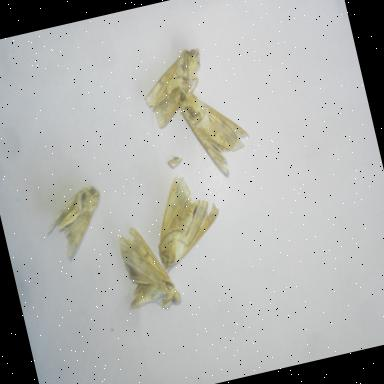abw: (140, 164, 234, 275), (172, 71, 260, 188), (105, 215, 190, 322), (132, 41, 219, 134), (34, 179, 118, 269)
